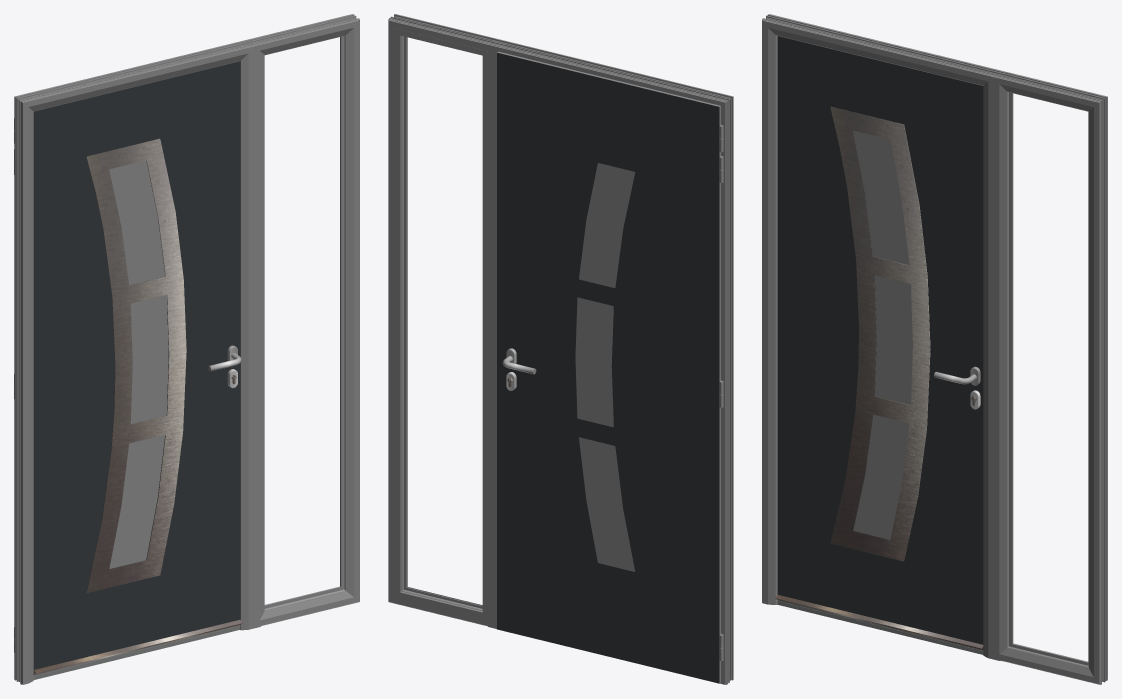
The picture shows the model from 3 angles, left to right: view 1: azimuth 30°, elevation 25°; view 2: azimuth 150°, elevation 25°; view 3: azimuth 330°, elevation 25°; orthographic projection.
Parts seen in each view (by area): view 1: bloco_122, Rectangle002, alunox_073, Line004, Vidro Porta, Object, Object001, Line005, Rectangle005, Rectangle003; view 2: bloco_122, Rectangle002, Vidro Porta, Rectangle003, Line004, Object001, Rectangle004, Object; view 3: bloco_122, Rectangle002, alunox_073, Line004, Vidro Porta, Object001, Object, Line005, Rectangle003, Rectangle005.
Boxes of the visible parts, x1,y1,x2,y2 form: bloco_122: [33, 61, 240, 671]; Rectangle002: [14, 14, 359, 684]; alunox_073: [86, 138, 186, 592]; Line004: [240, 46, 264, 630]; Vidro Porta: [109, 160, 168, 568]; Object: [33, 35, 346, 680]; Object001: [264, 36, 344, 608]; Line005: [33, 620, 242, 674]; Rectangle005: [33, 625, 240, 679]; Rectangle003: [264, 37, 340, 605]; bloco_122: [497, 52, 719, 683]; Rectangle002: [388, 14, 733, 684]; Vidro Porta: [575, 163, 635, 571]; Rectangle003: [394, 28, 487, 619]; Line004: [488, 41, 504, 628]; Object001: [401, 36, 482, 610]; Rectangle004: [496, 51, 720, 683]; Object: [404, 36, 482, 608]; bloco_122: [777, 36, 983, 644]; Rectangle002: [762, 14, 1107, 684]; alunox_073: [830, 106, 930, 561]; Line004: [983, 77, 1007, 661]; Vidro Porta: [853, 130, 912, 539]; Object001: [1007, 92, 1088, 665]; Object: [776, 35, 1088, 667]; Line005: [775, 595, 983, 649]; Rectangle003: [1012, 93, 1087, 662]; Rectangle005: [777, 600, 983, 654].
Size of the model in its own units: 1307 by 2150 by 192.
Materials: 7 (4 with a texture image).
